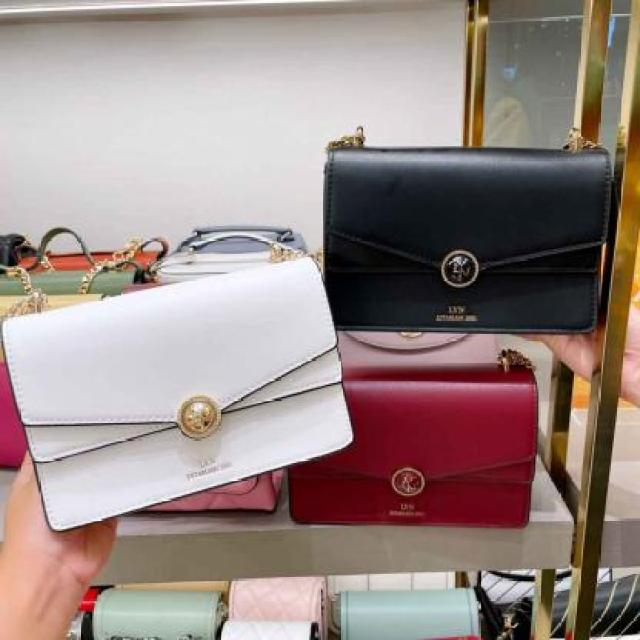Bag: (0, 246, 362, 532), (294, 88, 608, 346), (262, 326, 569, 539)
